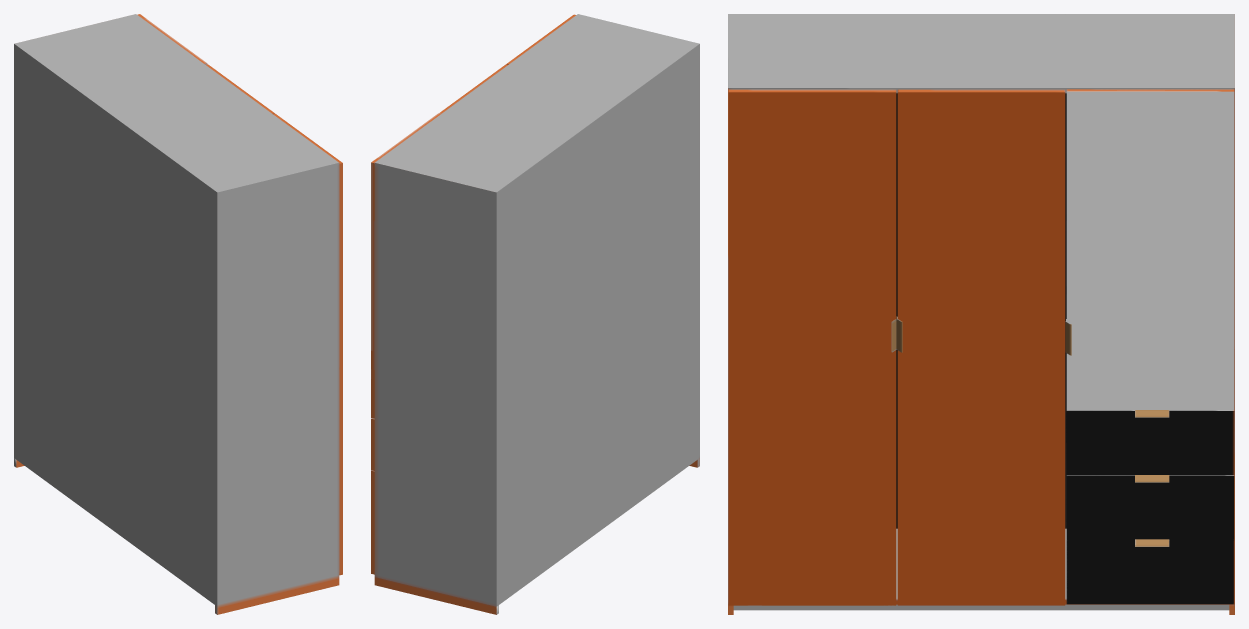
The model's file is ward2.glb.
The picture shows the model from 3 angles, left to right: view 1: azimuth 30°, elevation 25°; view 2: azimuth 150°, elevation 25°; view 3: azimuth 270°, elevation 25°; orthographic projection. The views are drawn at different scales.
Parts seen in each view (by area): view 1: Cube_010; view 2: Cube_010; view 3: Cube_010.
Boxes of the visible parts, box(x1,y1,x2,y2) form: Cube_010: box(14, 14, 342, 614); Cube_010: box(371, 14, 699, 614); Cube_010: box(728, 14, 1234, 614).
Size of the model in its own units: 0.7898 by 2.44 by 2.13.
1 material, 1 textured.
